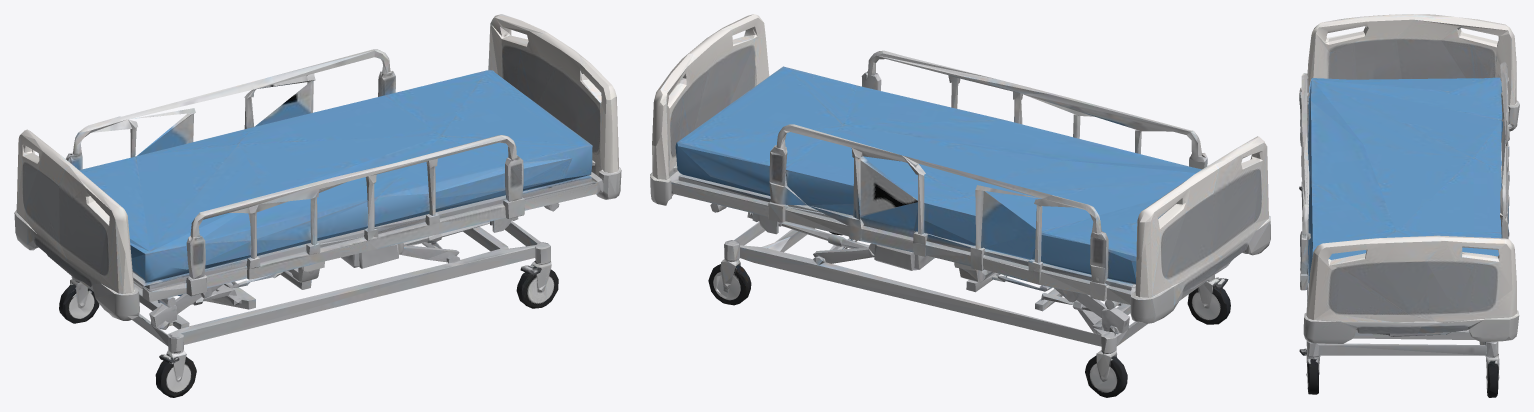
File: bed.glb
The picture shows the model from 3 angles, left to right: view 1: azimuth 30°, elevation 25°; view 2: azimuth 150°, elevation 25°; view 3: azimuth 270°, elevation 25°; orthographic projection. The views are drawn at different scales.
Parts seen in each view (by area): view 1: output_unwrapped; view 2: output_unwrapped; view 3: output_unwrapped.
Boxes of the visible parts, x1,y1,x2,y2 form: output_unwrapped: [14, 14, 621, 397]; output_unwrapped: [650, 14, 1270, 397]; output_unwrapped: [1299, 14, 1519, 397].
Size of the model in its own units: 1.9 by 0.7404 by 0.7776.
Materials: 1 (1 with a texture image).
